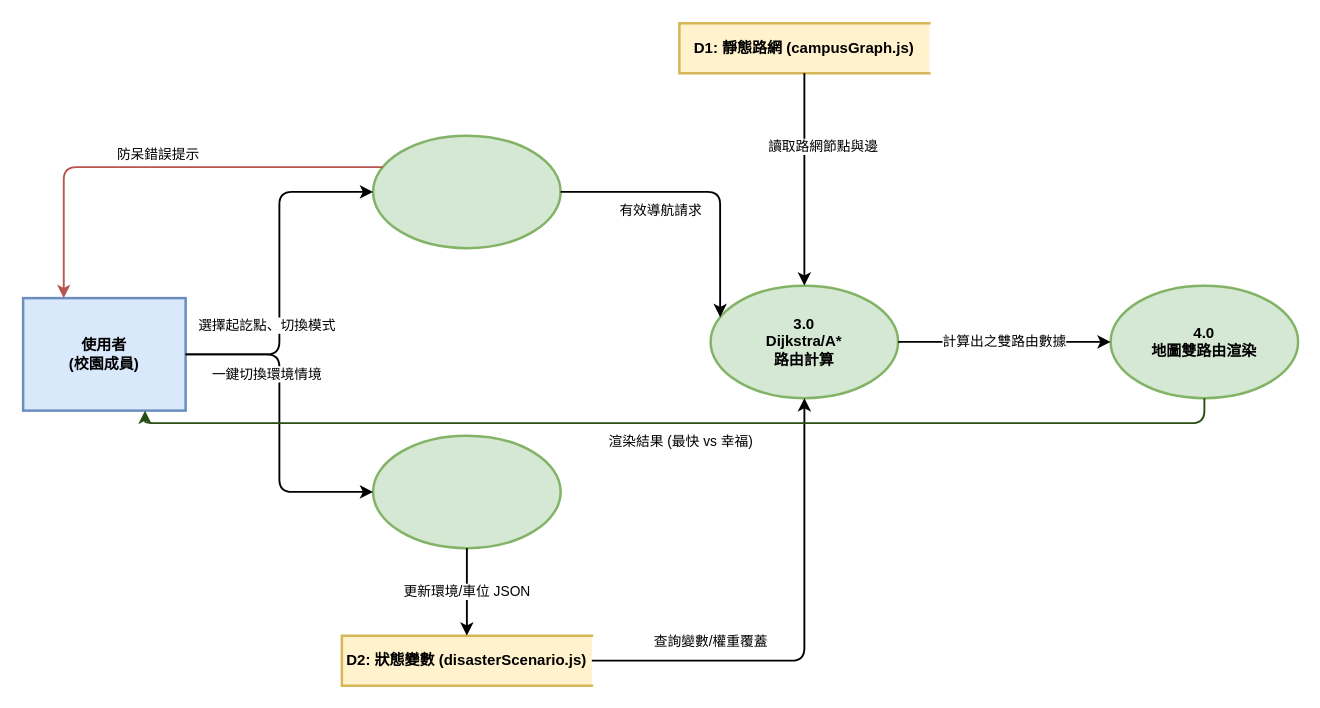
Image size: 1320x708. Some labels were removed from this diagram. The centre of each missing label's shape, as x and y in pixels:
"1.0 接收控制與防呆驗證" belongs at (x=466, y=191).
"2.0 動態環境與權重更新" belongs at (x=466, y=491).
